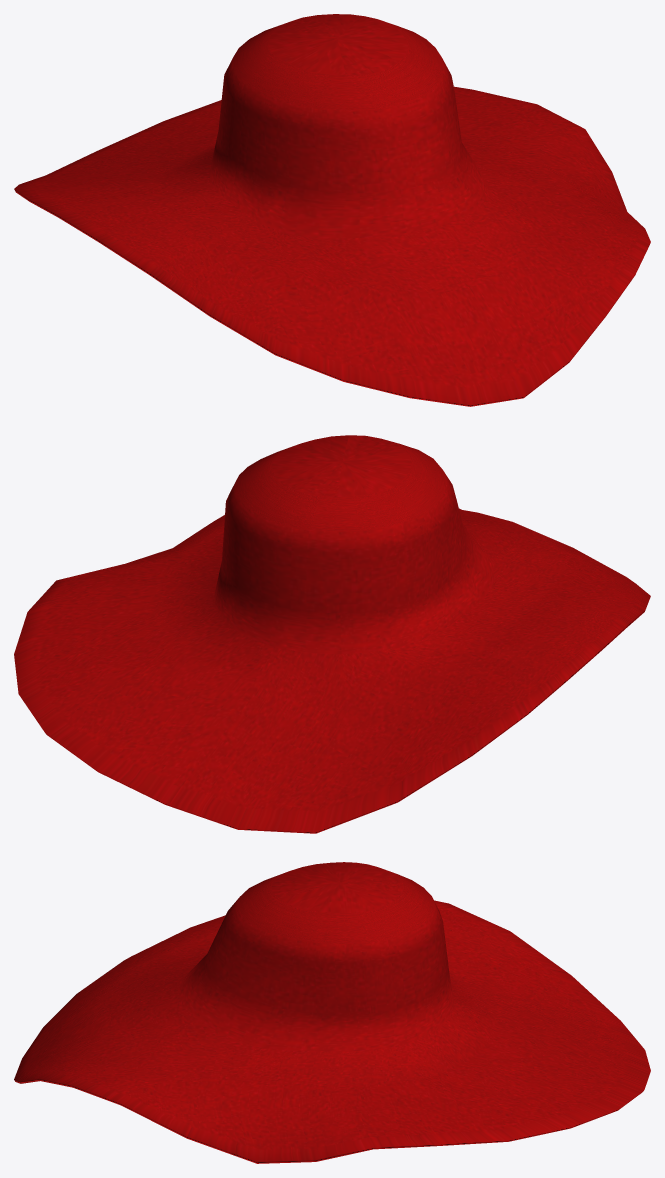
Rendered from redhat.obj.
The picture shows the model from 3 angles, top to bottom: view 1: azimuth 30°, elevation 25°; view 2: azimuth 150°, elevation 25°; view 3: azimuth 270°, elevation 25°; orthographic projection. The views are drawn at different scales.
Size of the model in its own units: 42.73 by 17.69 by 51.35.
1 material, 1 textured.
